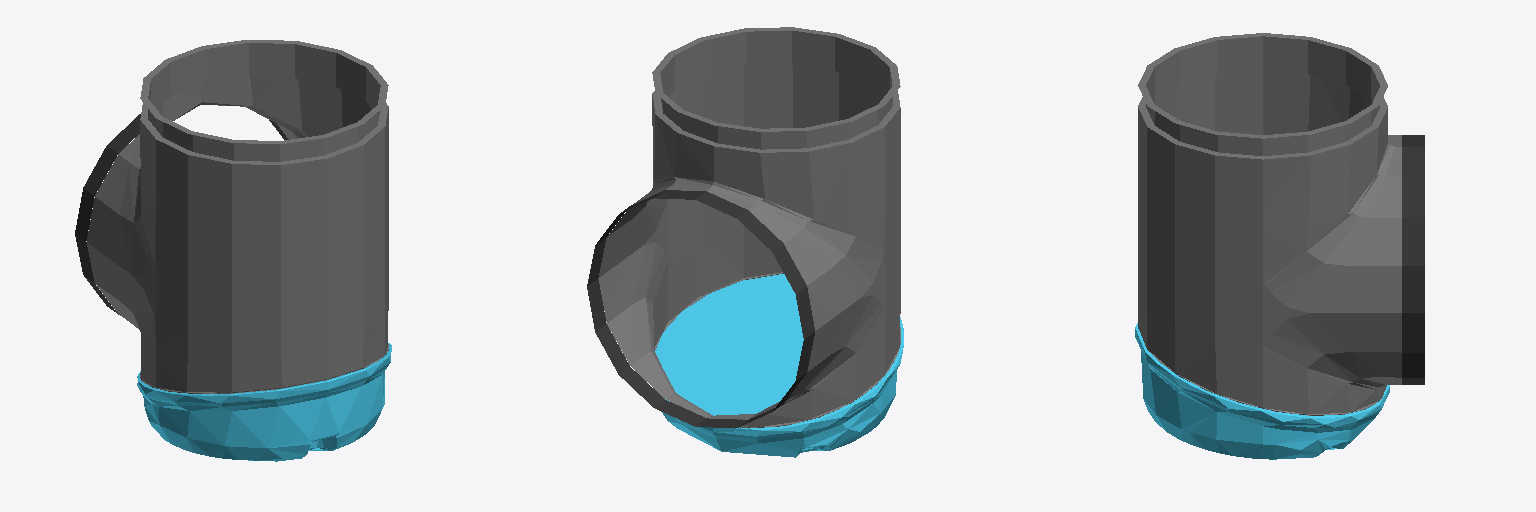
File: URjoint4.obj
The picture shows the model from 3 angles: view 1: azimuth 30°, elevation 25°; view 2: azimuth 150°, elevation 25°; view 3: azimuth 270°, elevation 25°; orthographic projection.
Visible parts, largest first — view 1: joint4; view 2: joint4; view 3: joint4.
Boxes of the visible parts, x1,y1,x2,y2 form: joint4: [75, 40, 391, 461]; joint4: [587, 27, 903, 457]; joint4: [1135, 33, 1424, 459].
Size of the model in its own units: 64.44 by 94.48 by 73.11.